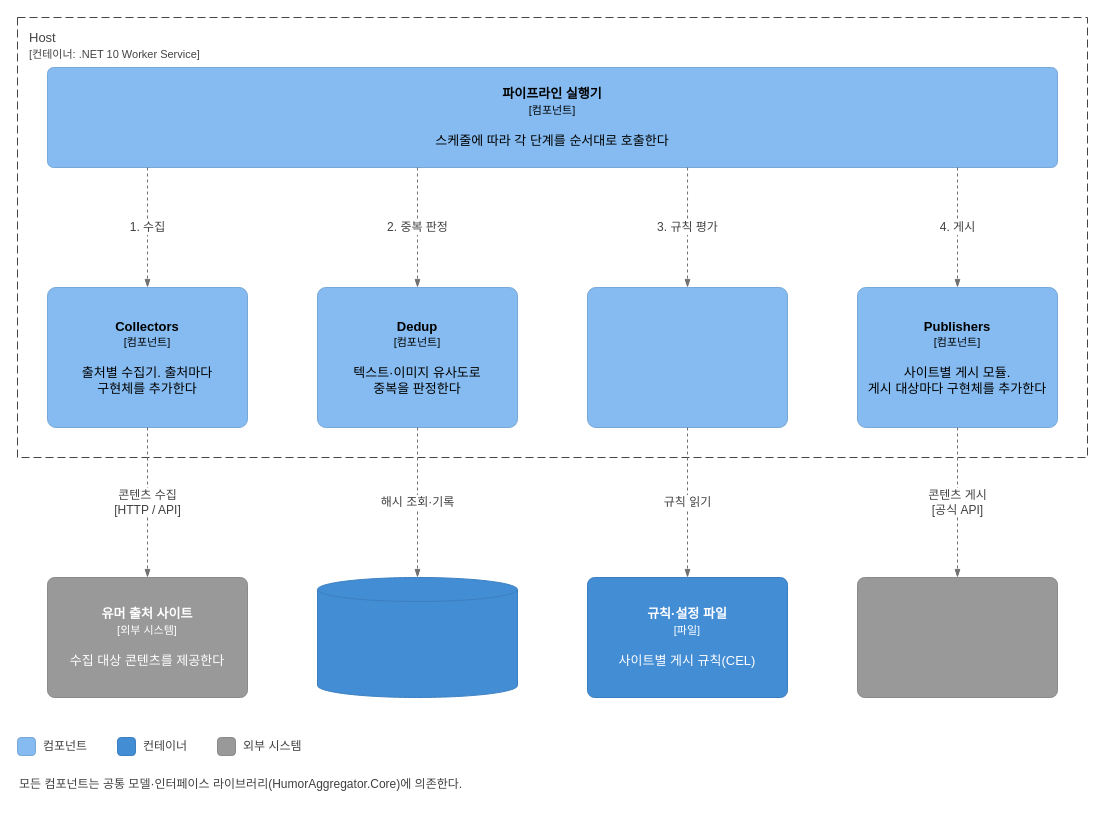
Some shapes in this 1105 by 814 pixel diagram are drawn without their labels. The shapes that lost their labels are listed below. From the top down, each one's centre as x and y in pixels, then its label:
[687,357]: RuleEngine [컴포넌트] 사이트별 게시 규칙과 일일 게시 한도를 CEL로 평가한다
[417,637]: 데이터 저장소 [데이터베이스: 선정 예정] 콘텐츠·해시·게시 기록
[957,637]: 게시 대상 사이트 [외부 시스템] 공식 API로 콘텐츠를 게시할 수 있다
